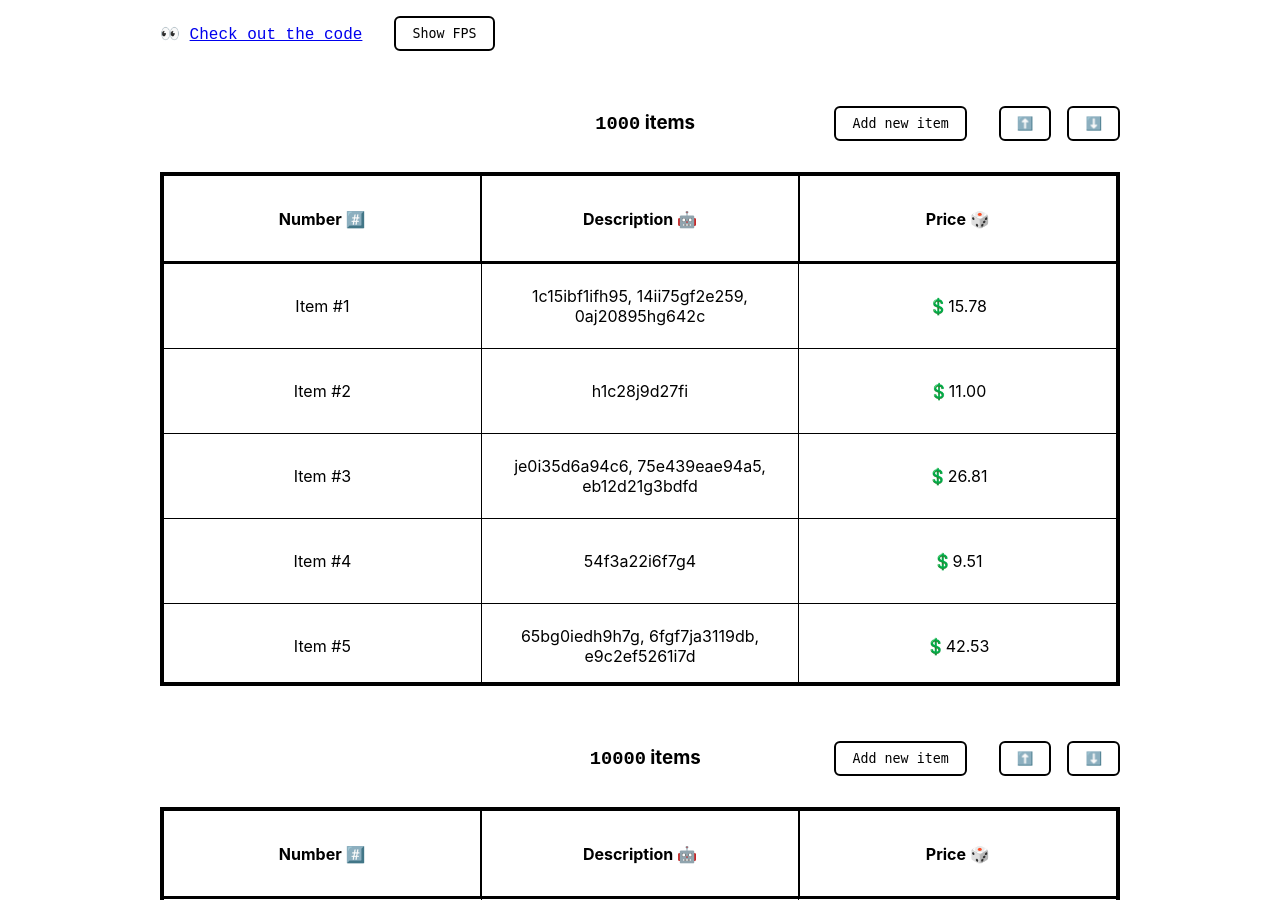
Test case: App › toggles fps counter
Check: the text "Hide FPS" is not shown
Check: the text "FPS Counter" is not shown
Click the button "Show FPS": coordinates (444, 34) [394,16,495,51]
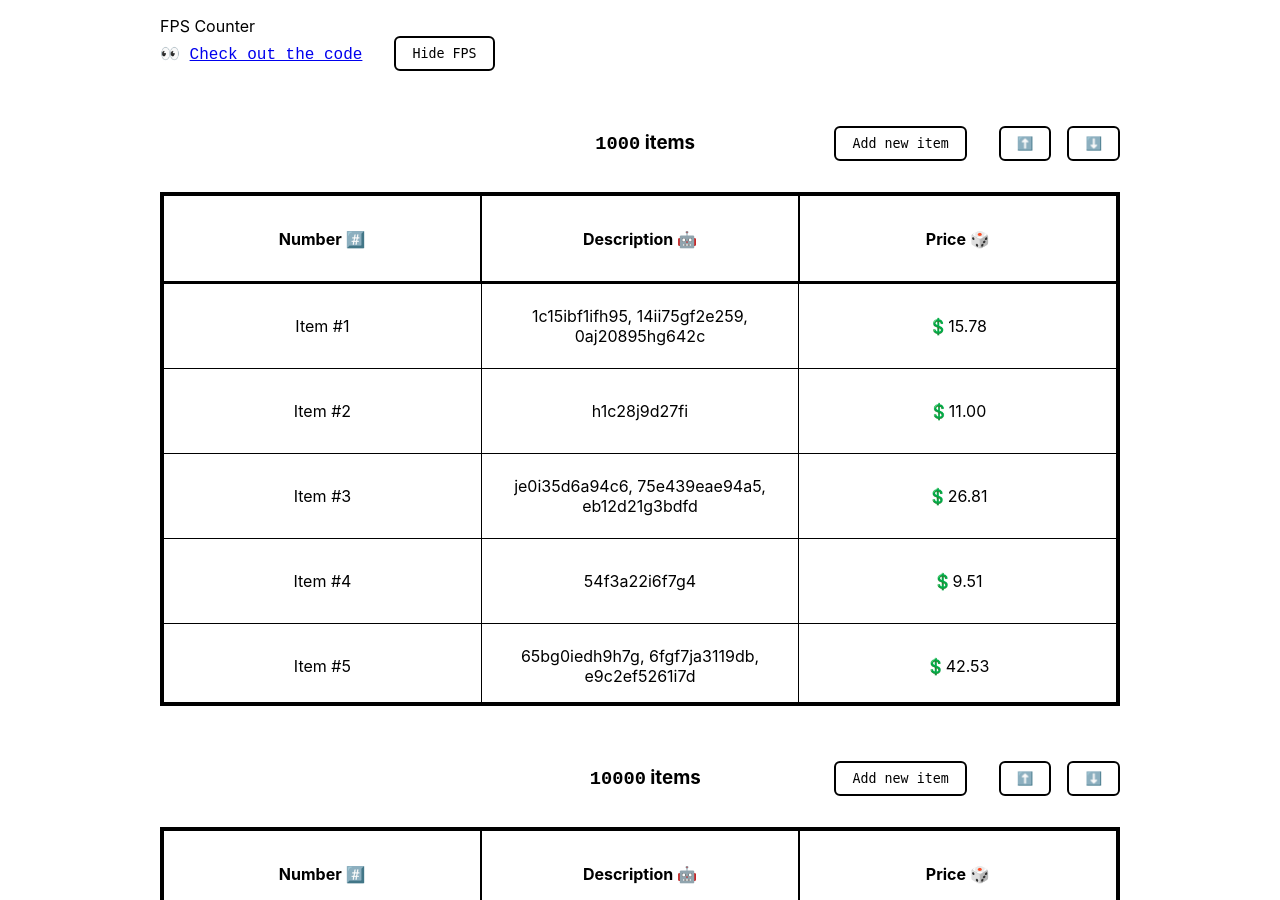
Check: the button "Show FPS" is gone
Check: the button "Hide FPS" is shown
Check: the text "FPS Counter" is shown, box [160,16,255,36]
Click the button "Hide FPS": coordinates (444, 54) [394,36,495,71]
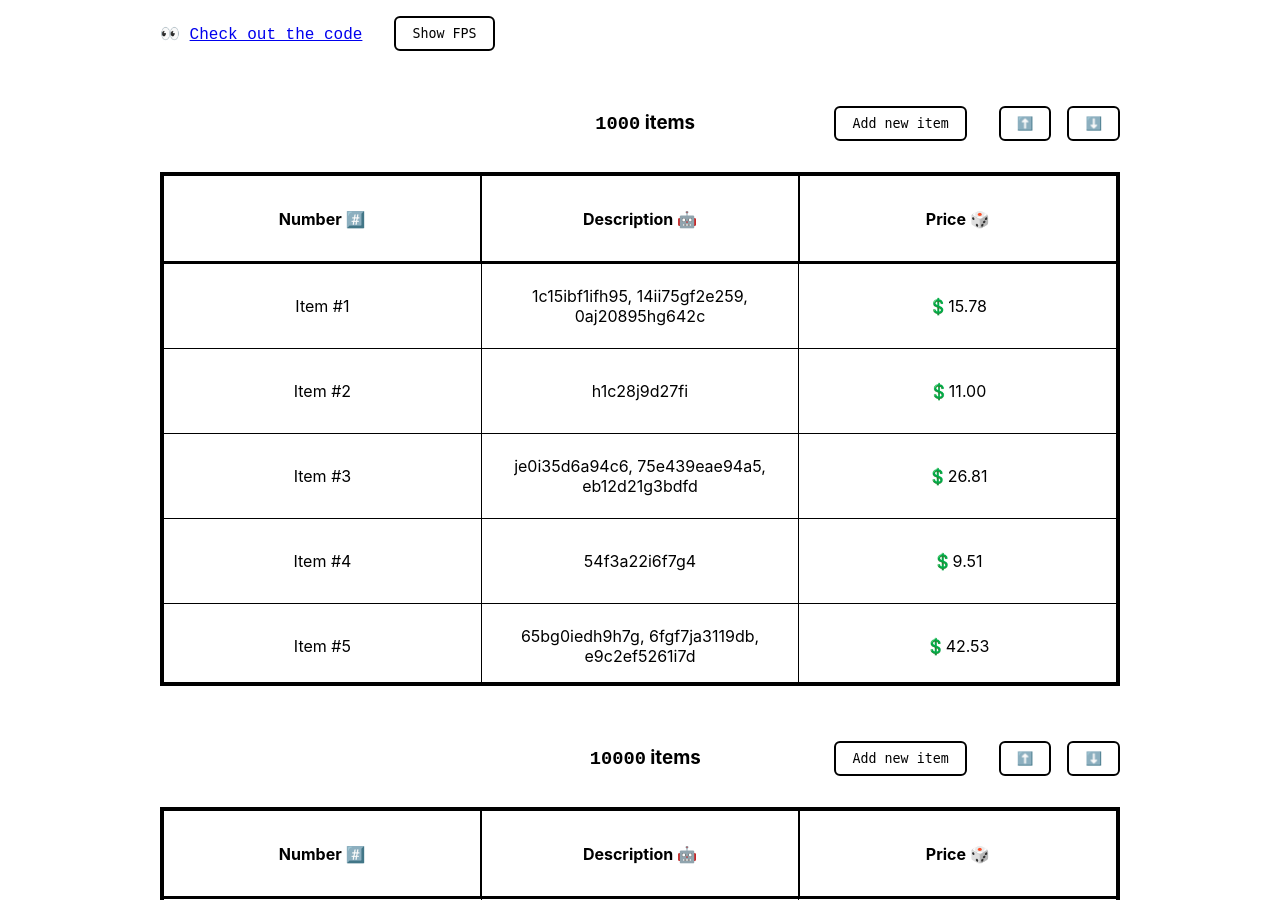
Check: the button "Show FPS" is shown, box [394,16,495,51]
Check: the button "Hide FPS" is gone
